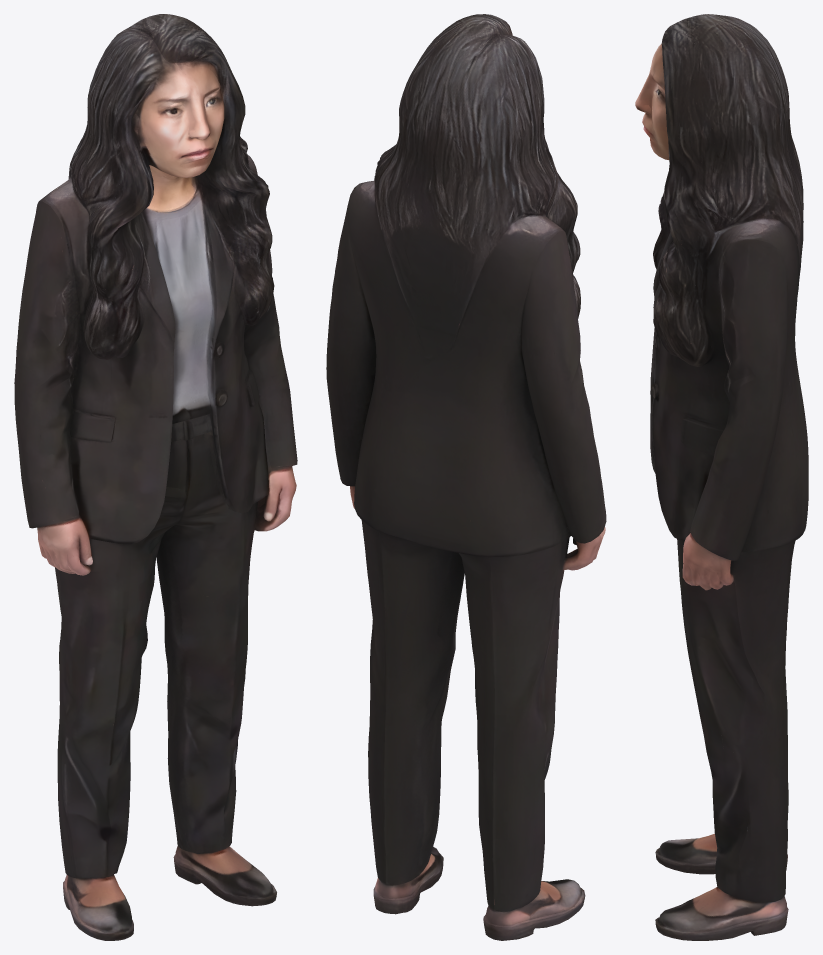
Rendered from abogada2_mujer.glb.
The picture shows the model from 3 angles, left to right: view 1: azimuth 30°, elevation 25°; view 2: azimuth 150°, elevation 25°; view 3: azimuth 270°, elevation 25°; orthographic projection.
Visible parts, largest first — view 1: model; view 2: model; view 3: model.
Part boxes in pixels (x1,y1,x2,y2): model: (14, 14, 297, 940); model: (326, 14, 606, 940); model: (635, 14, 808, 940).
Size of the model in its own units: 0.3109 by 1 by 0.1779.
1 material, 1 textured.
